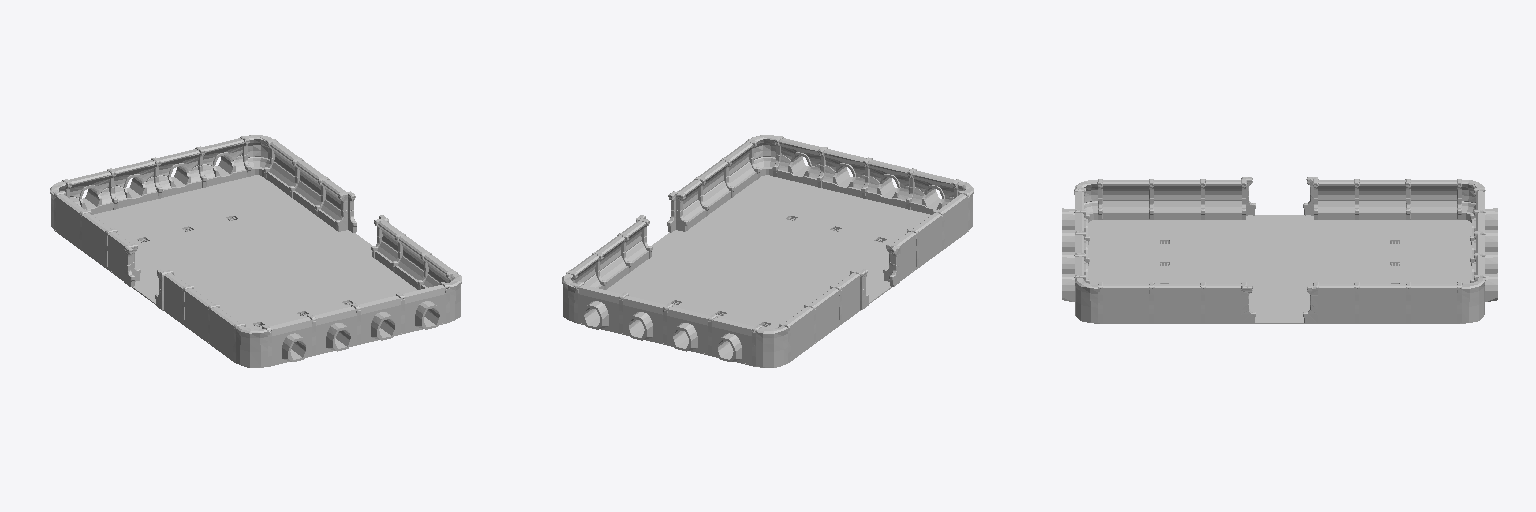
File: DungeonRoom_10.obj
The picture shows the model from 3 angles: view 1: azimuth 30°, elevation 25°; view 2: azimuth 150°, elevation 25°; view 3: azimuth 270°, elevation 25°; orthographic projection.
Visible parts, largest first — view 1: DungeonRoom_10; view 2: DungeonRoom_10; view 3: DungeonRoom_10.
Part boxes in pixels (x1,y1,x2,y2): DungeonRoom_10: (50,135,461,367); DungeonRoom_10: (562,135,973,367); DungeonRoom_10: (1062,177,1497,323).
Size of the model in its own units: 40.91 by 8.22 by 68.